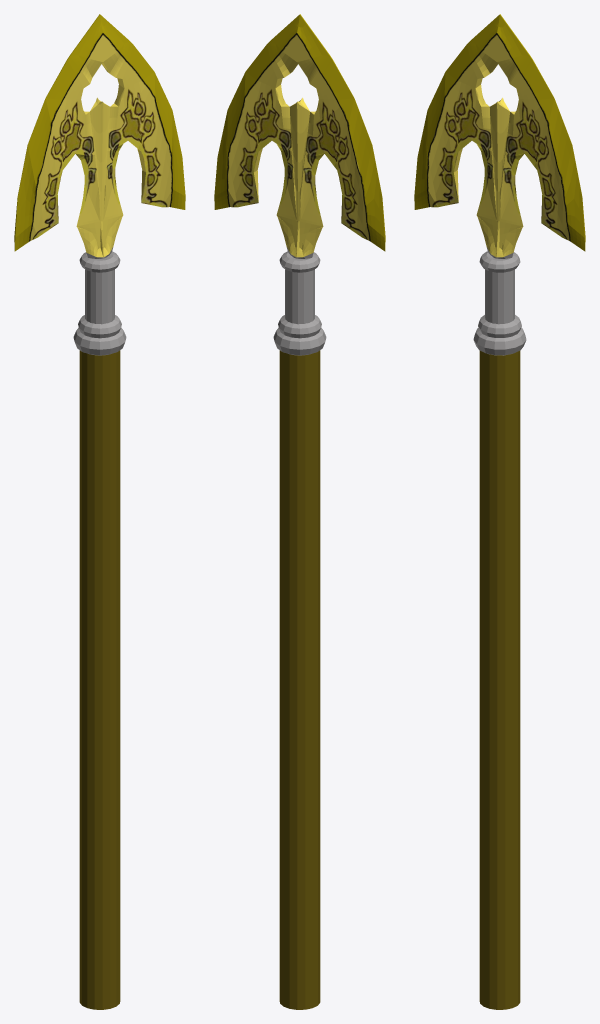
The model's file is jojos_bizarre_adventures_-_stand_arrow.glb.
3 views of the same model, side by side, from view 1: azimuth 30°, elevation 25°; view 2: azimuth 150°, elevation 25°; view 3: azimuth 330°, elevation 25° (orthographic).
Visible parts, largest first — view 1: ponta_0; view 2: ponta_0; view 3: ponta_0.
Boxes of the visible parts, x1,y1,x2,y2 form: ponta_0: [14, 14, 185, 1009]; ponta_0: [214, 14, 385, 1009]; ponta_0: [414, 14, 585, 1009].
Size of the model in its own units: 0.0608 by 0.3364 by 0.0164.
3 materials, 1 textured.
